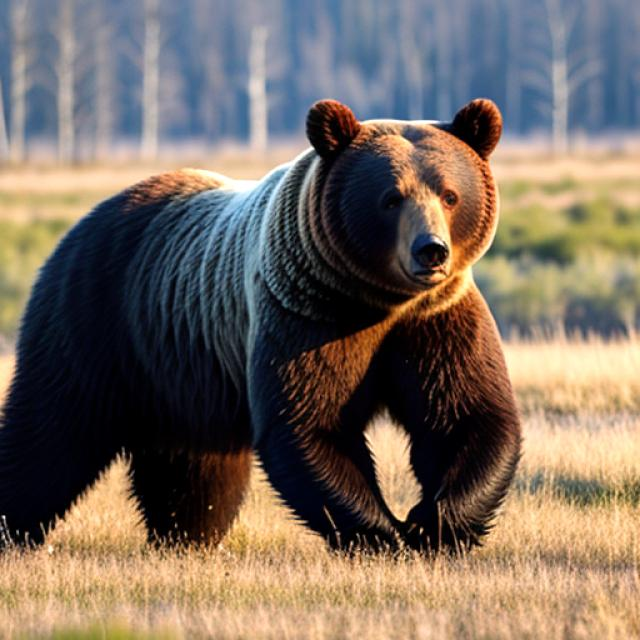bear: (31, 97, 547, 572)
